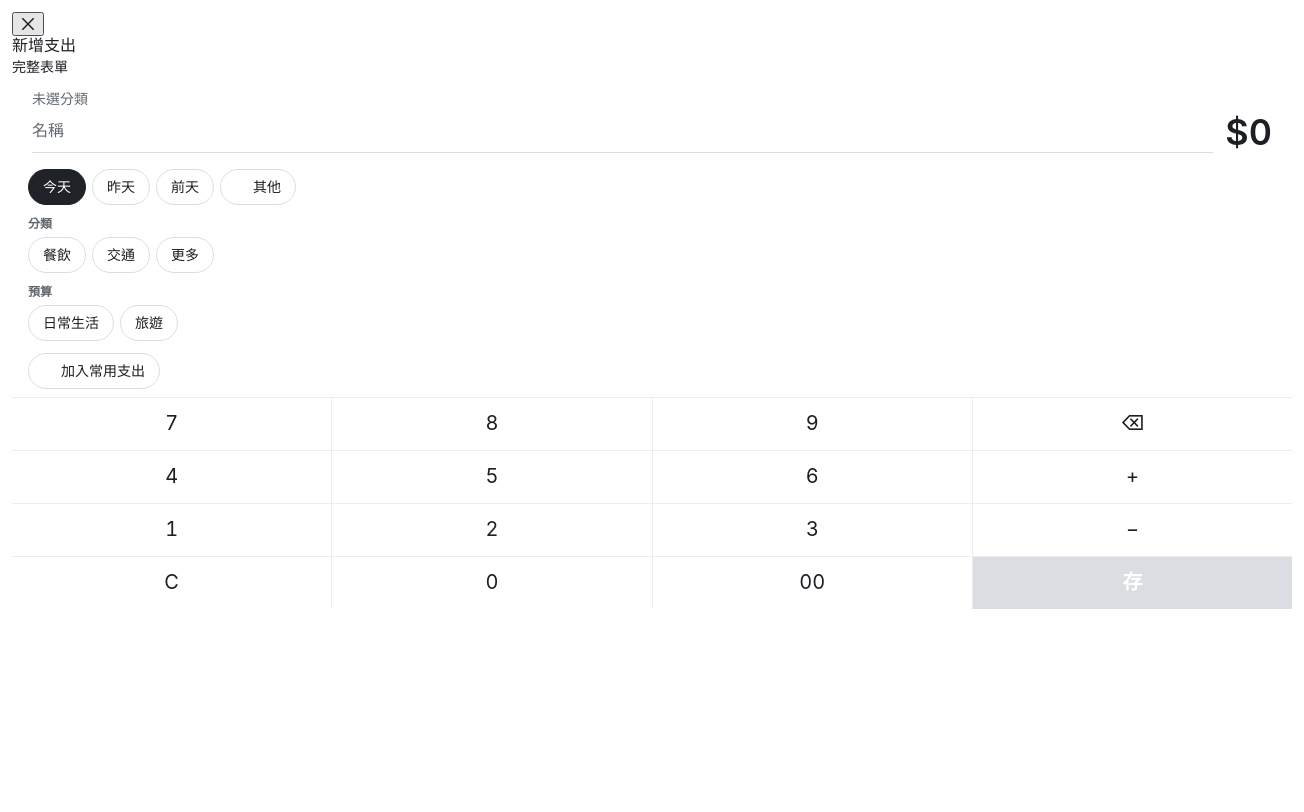
<QuickExpenseSheet /> › name autocomplete draws on history, not templates
Type "午" into the field labelled "名稱". click: (623, 131)
box: left=32, top=109, right=1213, bottom=153
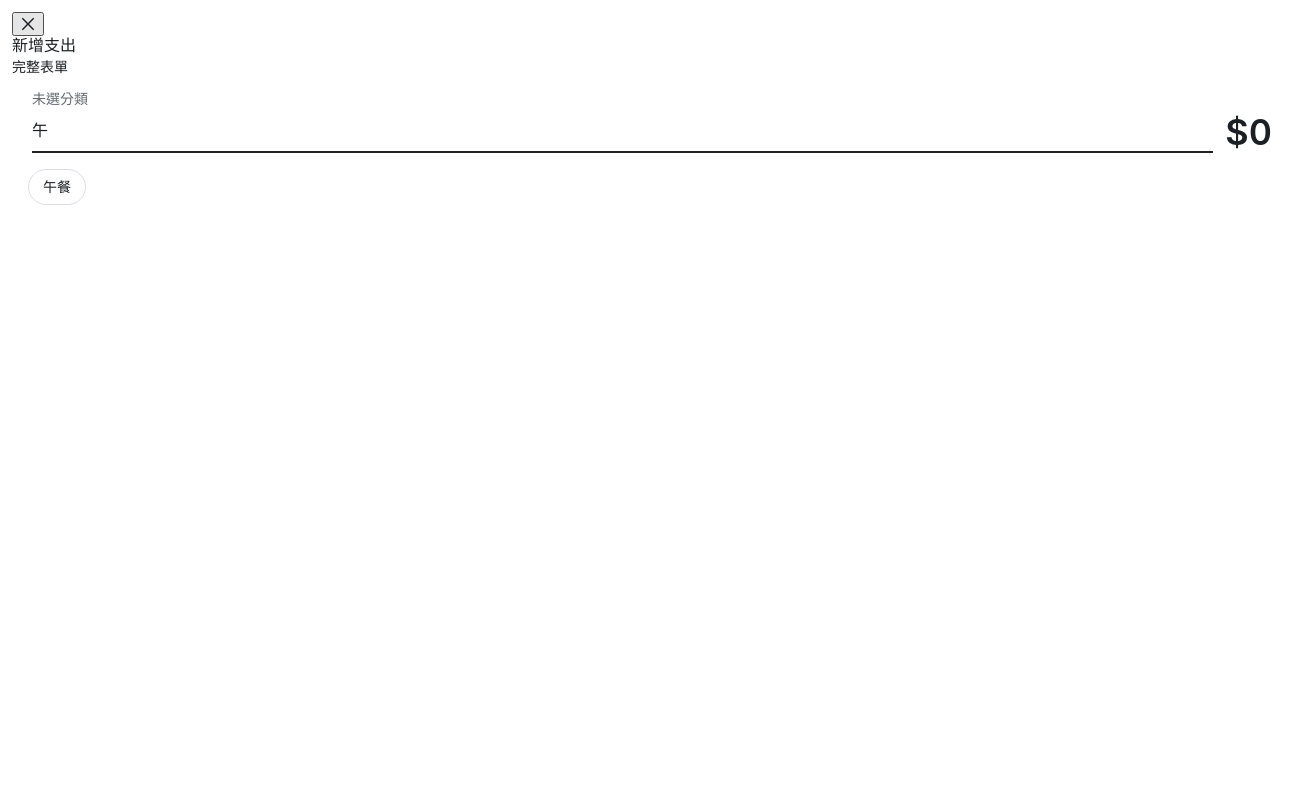
Click the button "午餐". click: (57, 187)
box: left=28, top=169, right=86, bottom=205
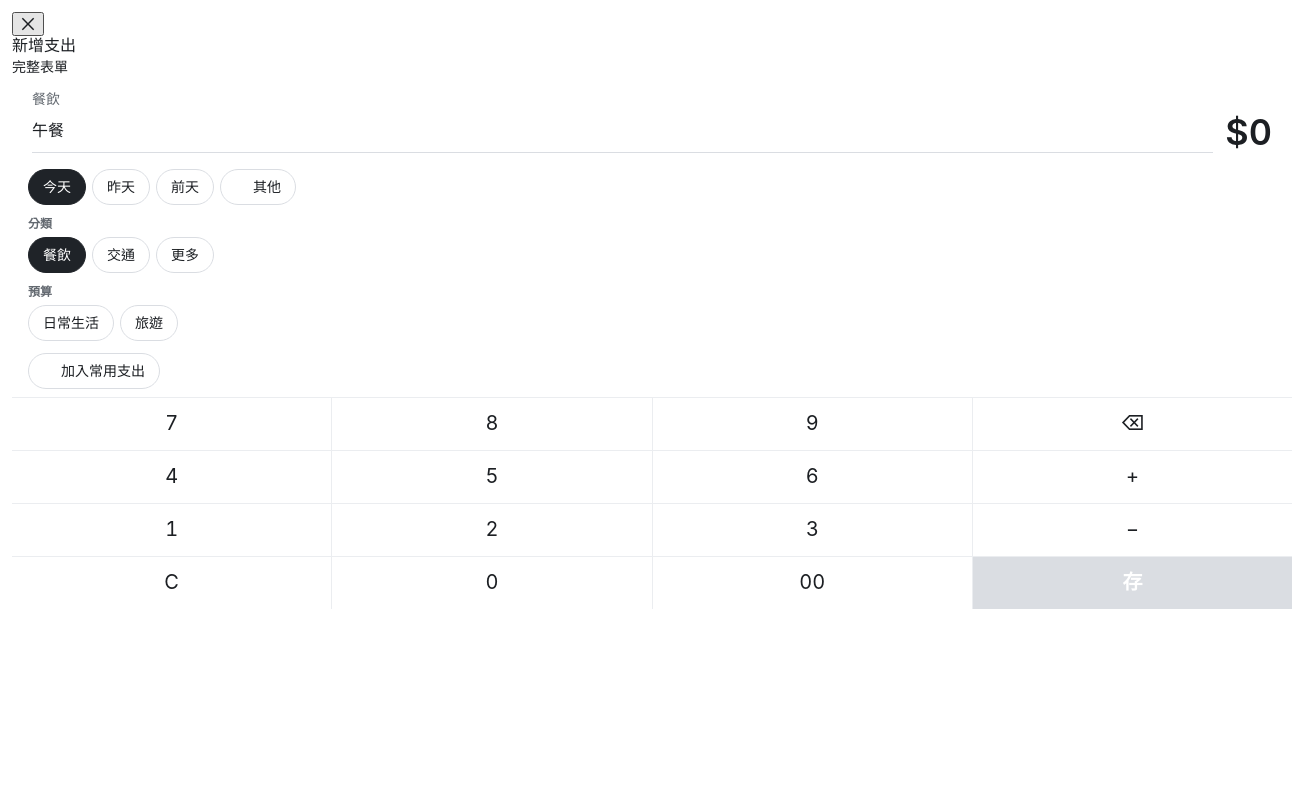
expect the text named "金額" reads "$0": met, box left=1225, top=113, right=1272, bottom=153
expect the field named "名稱" holds "午餐": met, box left=32, top=109, right=1213, bottom=153
